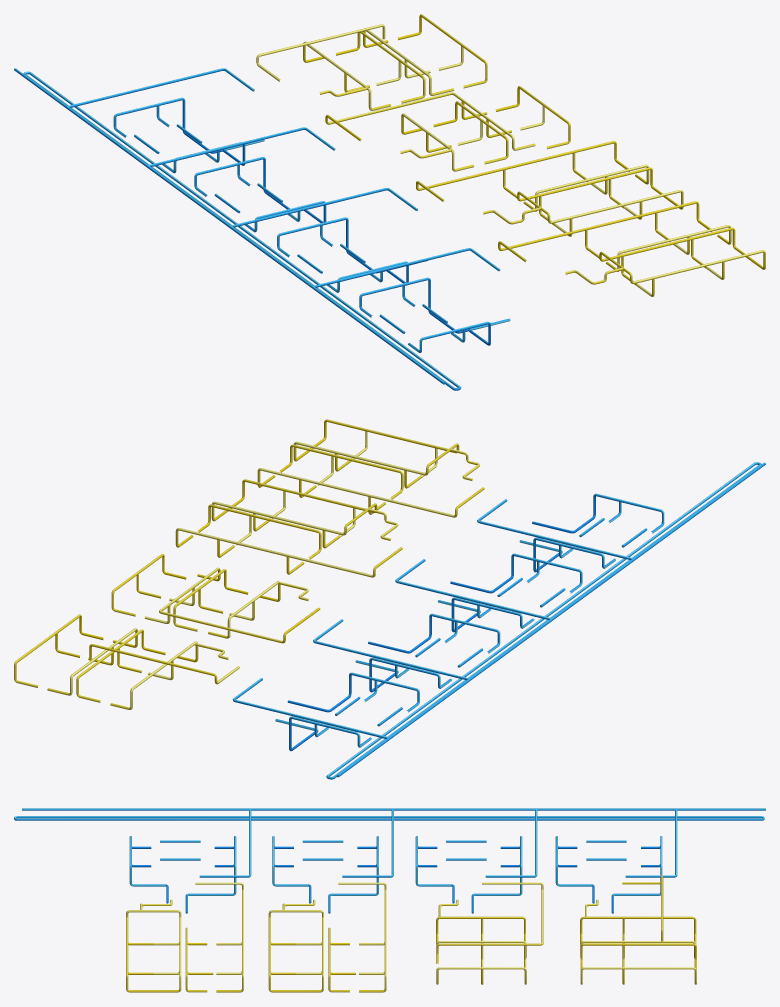
The model's file is LX_KongYa_A2a.glb.
The picture shows the model from 3 angles, top to bottom: view 1: azimuth 30°, elevation 25°; view 2: azimuth 150°, elevation 25°; view 3: azimuth 270°, elevation 25°; orthographic projection. The views are drawn at different scales.
Bounding box in the file's own units: 9.92 × 1.49 × 19.42.
Materials: 1 (1 with a texture image).
